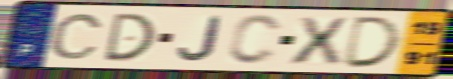C: (225, 13, 285, 67), (47, 12, 106, 61)
D: (339, 15, 404, 69), (101, 12, 158, 63)
J: (175, 14, 224, 63)
X: (287, 15, 350, 66)
